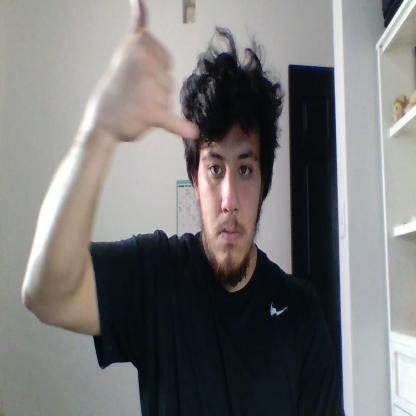Y: (104, 0, 198, 142)
